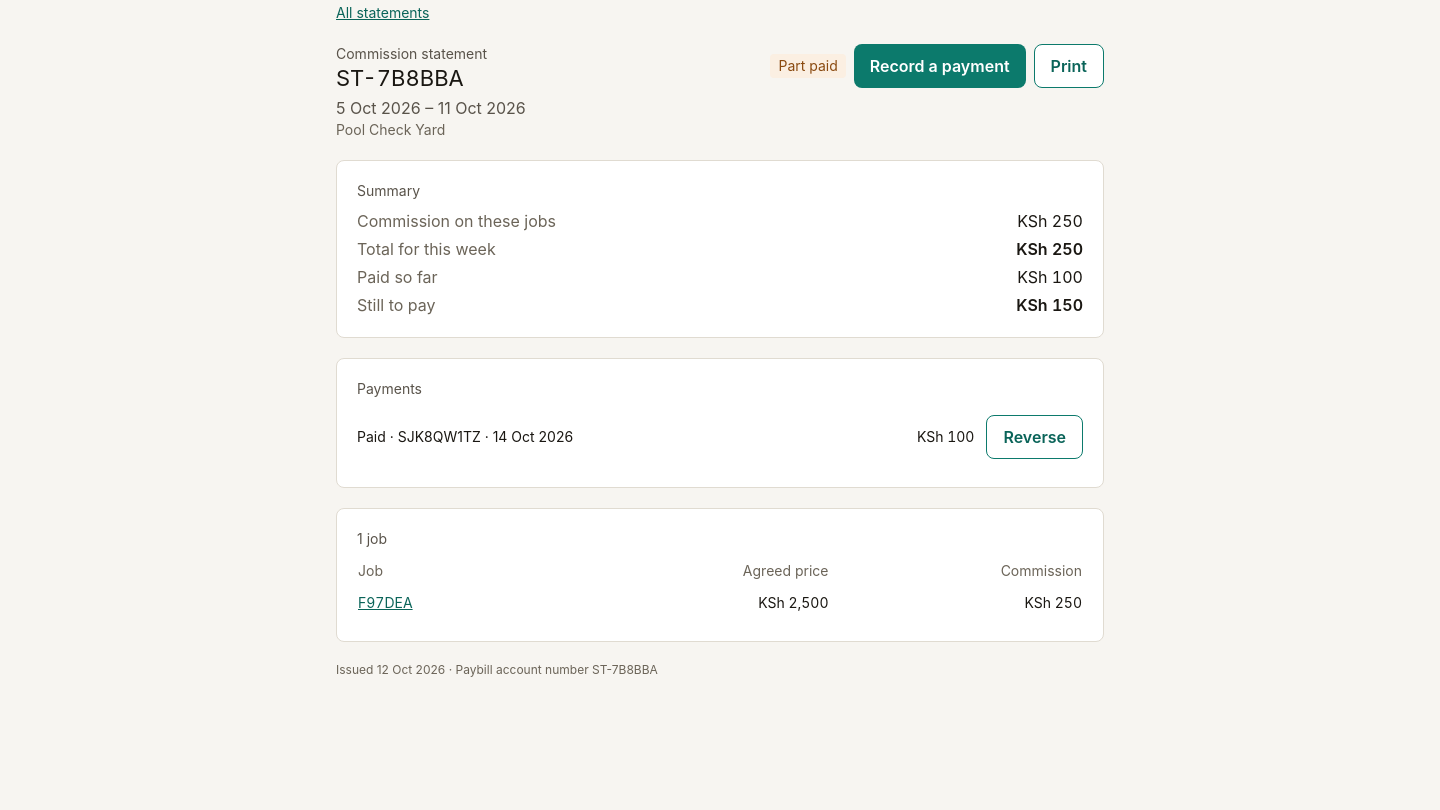
Test: AdminStatementDetailPage › reverses a payment with a reason
The image size is (1440, 810).
Click the button "Reverse".
click(1035, 437)  # box [986,415,1083,459]
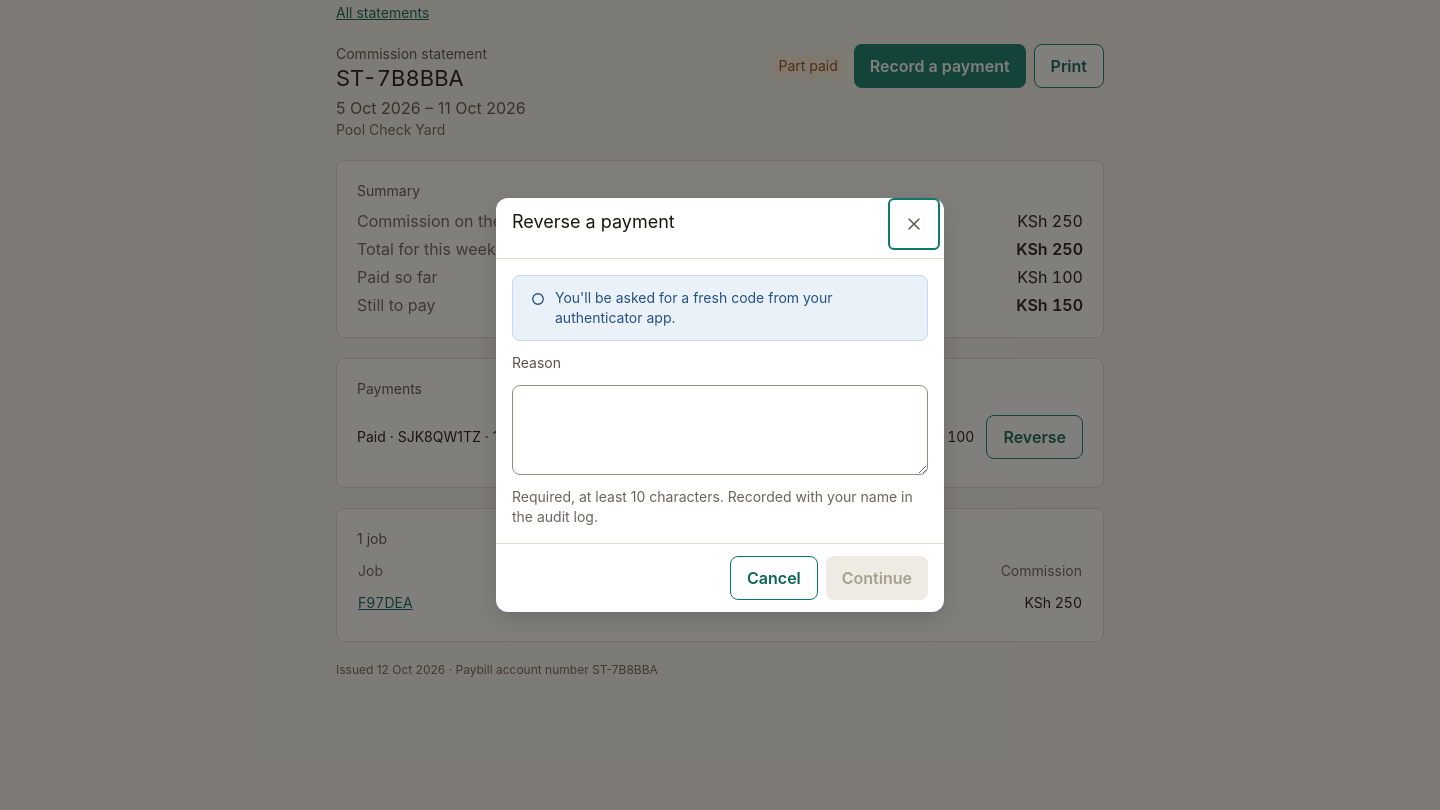
Type "Recorded against the wrong week" into the text box.
click(720, 430); type("Recorded against the wrong week")  # box [512,385,928,475]
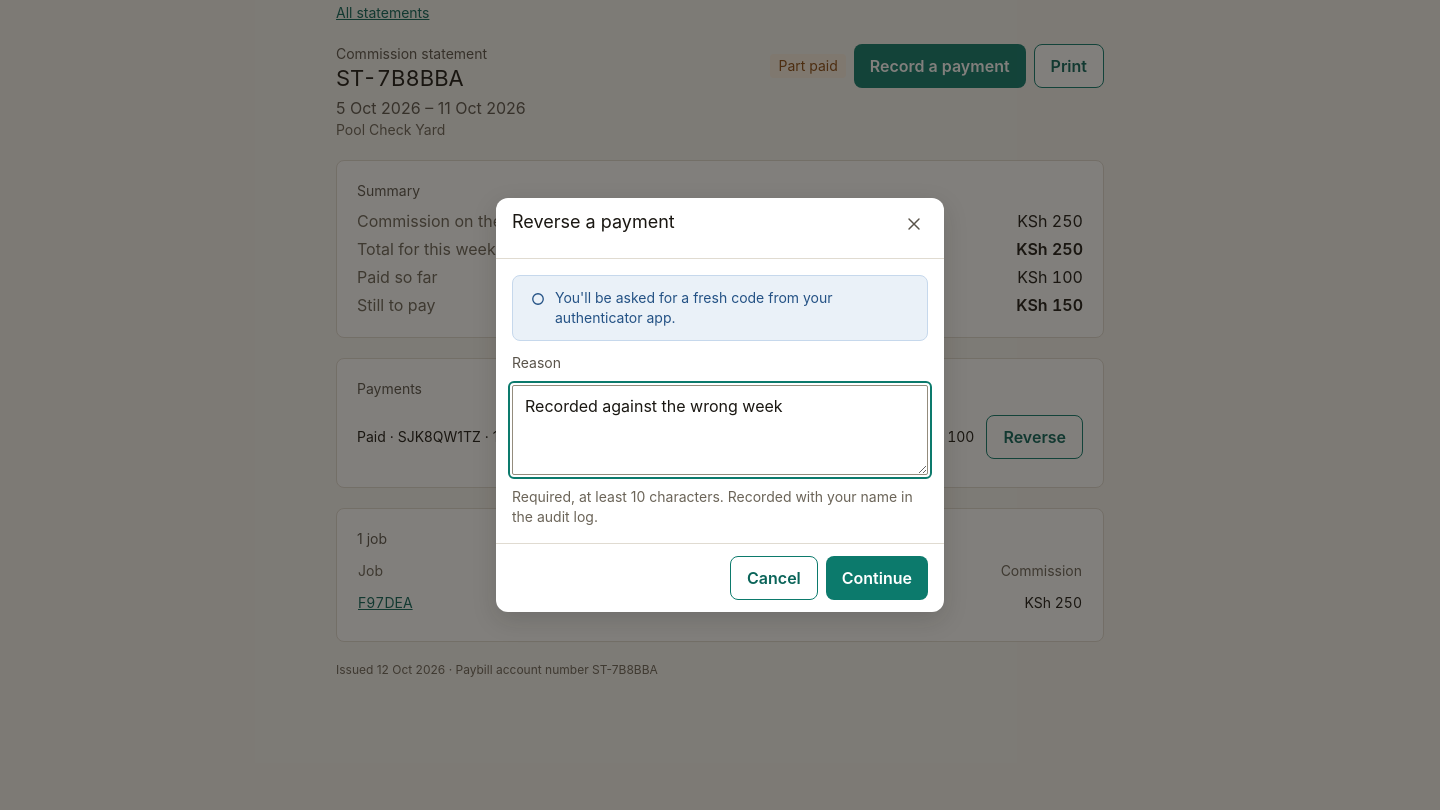
Click the button "Continue".
click(877, 578)  # box [826,556,928,600]
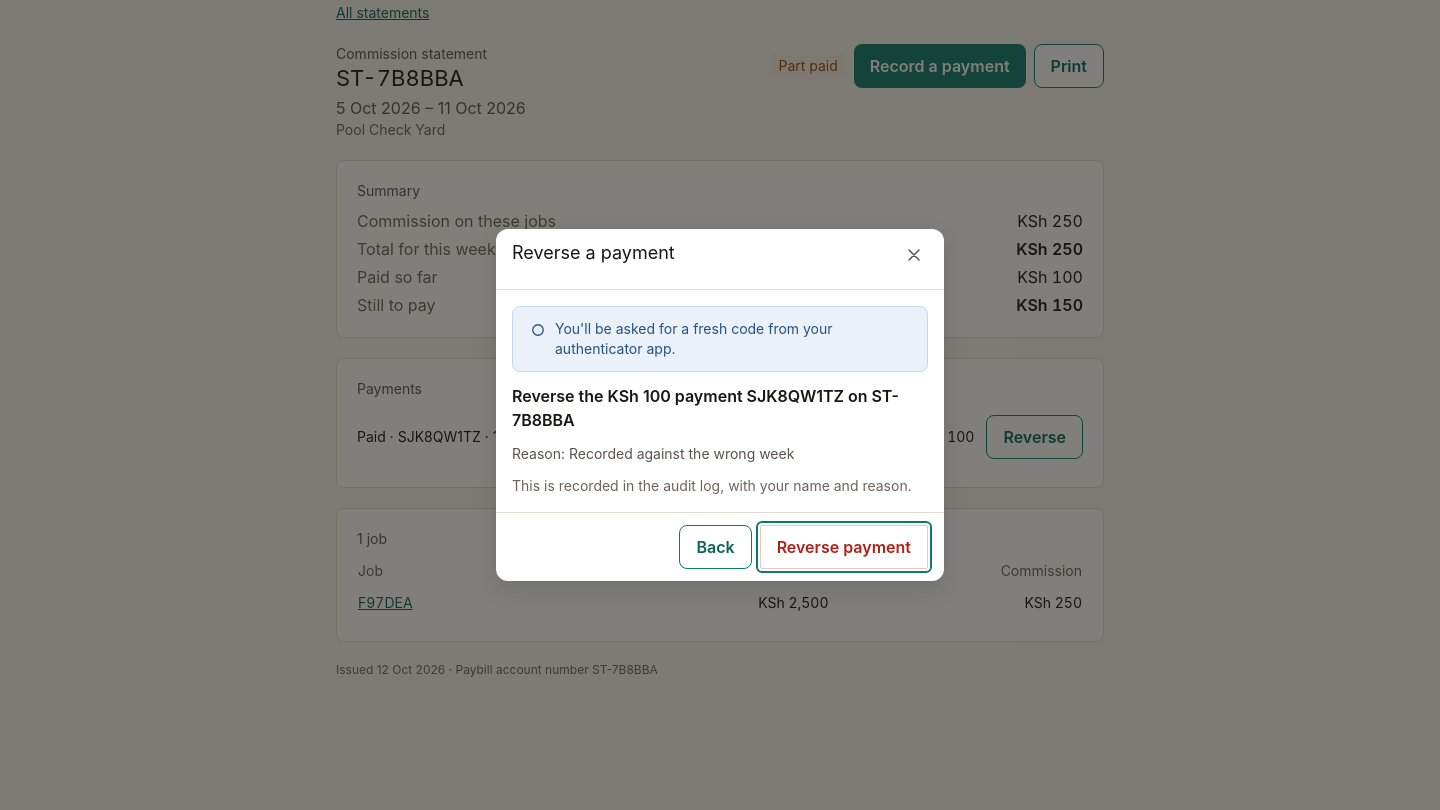
Click the button "Reverse payment".
click(844, 547)  # box [760,525,928,569]
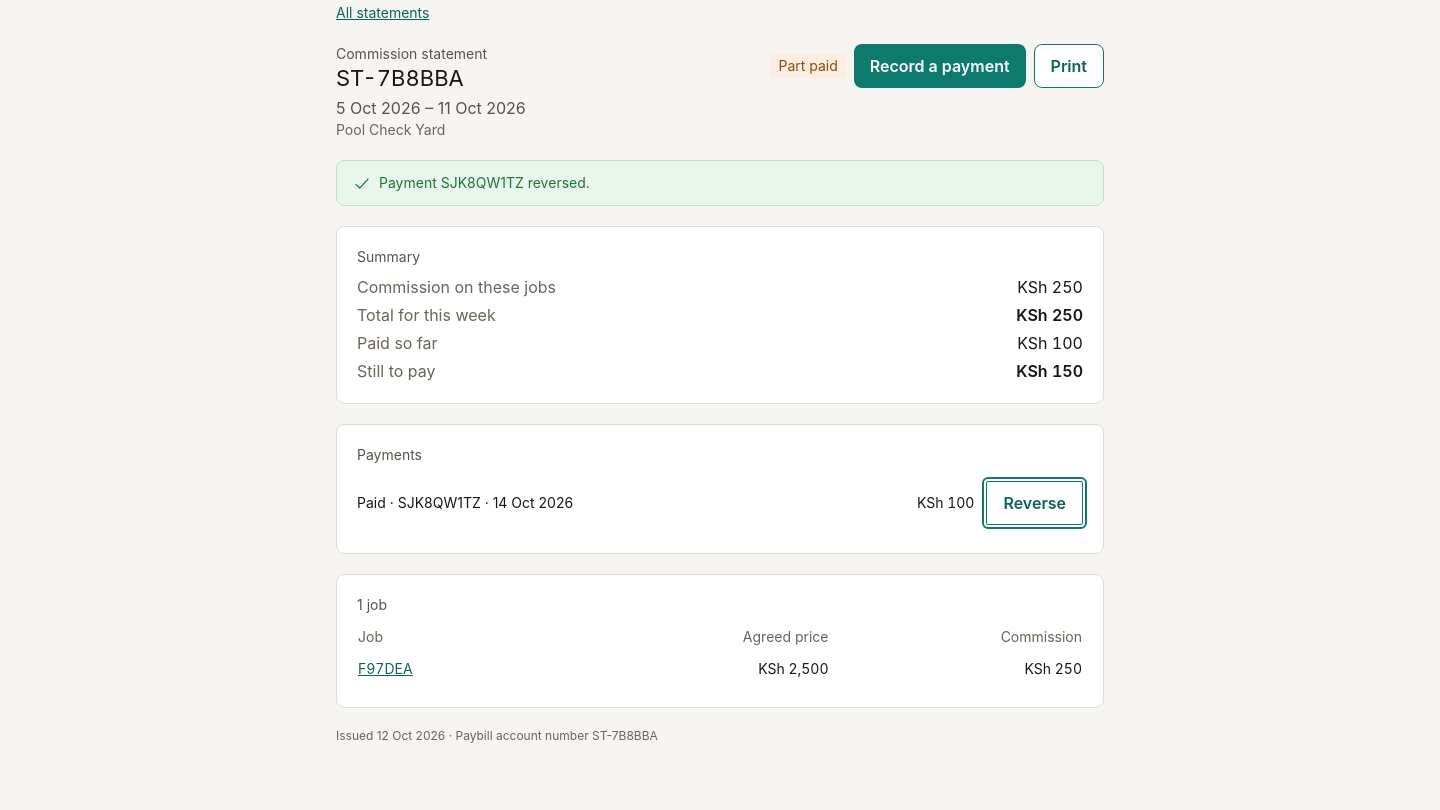
Expected: the text "Payment SJK8QW1TZ reversed." is shown, [379,173,590,193]
